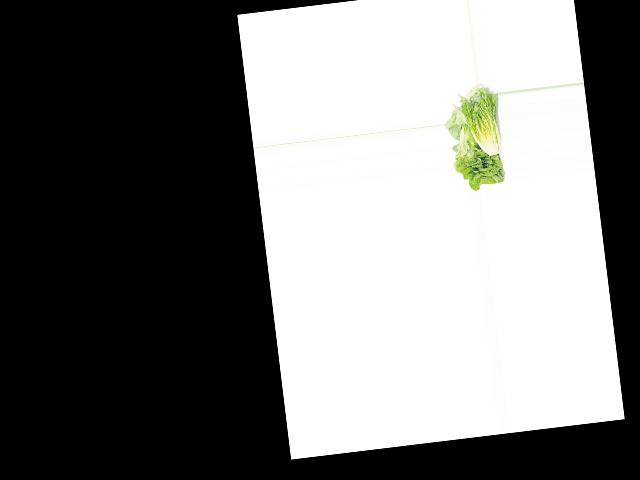lettuce: (449, 123, 509, 190)
